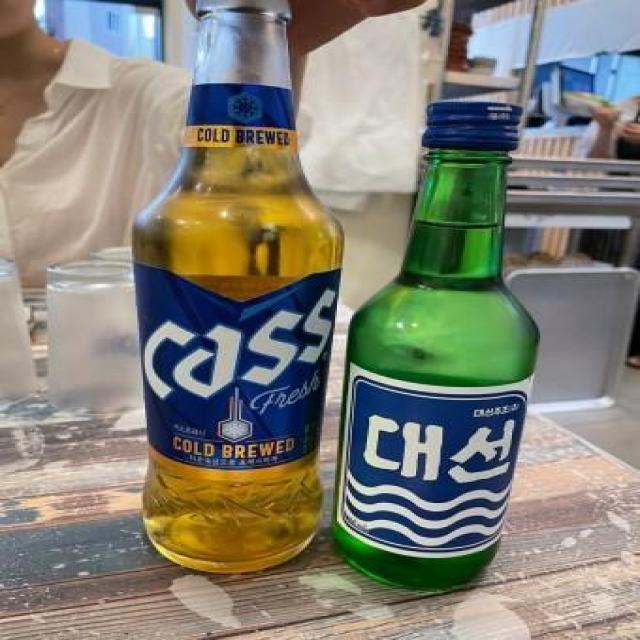beer-bottle: (120, 0, 364, 582)
soju-bottle: (335, 96, 540, 601)
